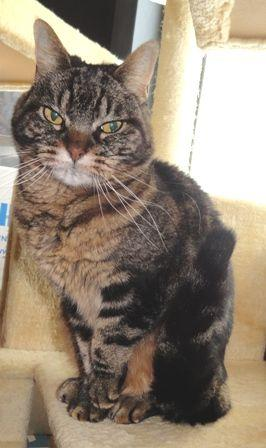bengal: (2, 11, 180, 211)
